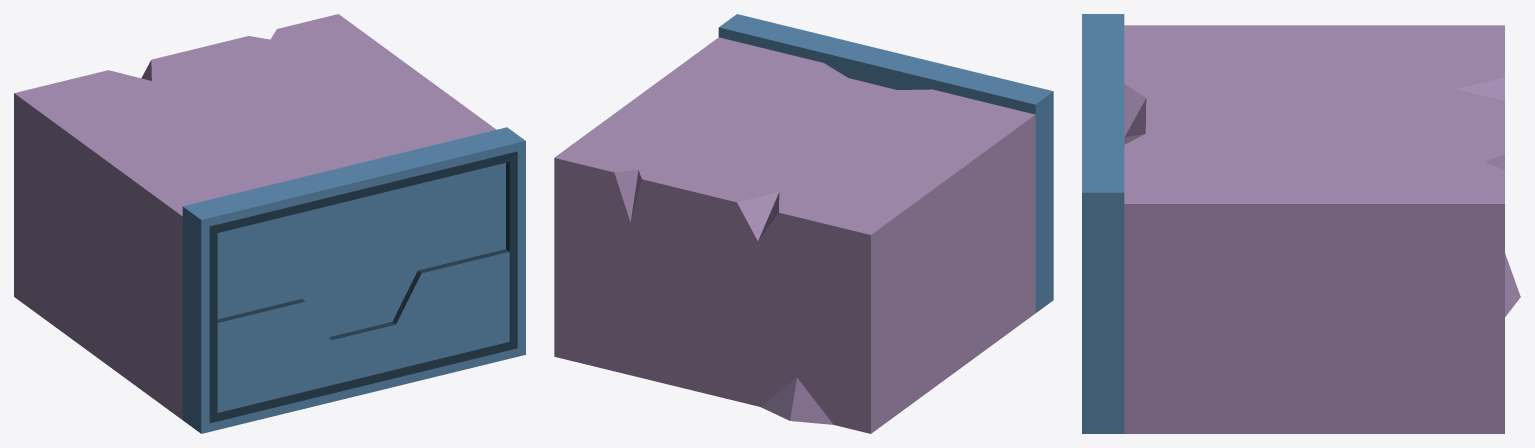
The model's file is Wall.003.fbx.
3 renders of one model, left to right at view 1: azimuth 30°, elevation 25°; view 2: azimuth 150°, elevation 25°; view 3: azimuth 270°, elevation 25°, orthographic. The views are drawn at different scales.
Parts seen in each view (by area): view 1: Wall.003; view 2: Wall.003; view 3: Wall.003.
Boxes of the visible parts, x1,y1,x2,y2 form: Wall.003: [14, 14, 525, 433]; Wall.003: [554, 14, 1053, 433]; Wall.003: [1082, 14, 1520, 433].
Size of the model in its own units: 1000 by 630 by 1038.
